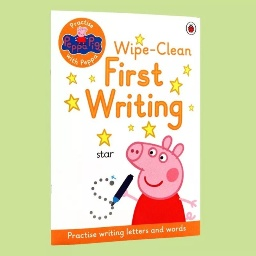Peppa: (123, 135, 199, 225)
